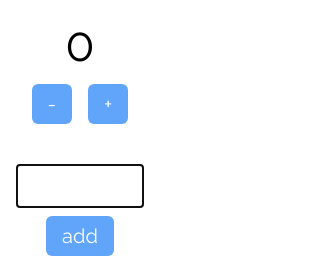
add input value
This screenshot has width=320, height=274.
In the field with test id "count-input": (80,186) [16,164,144,208], type "9"
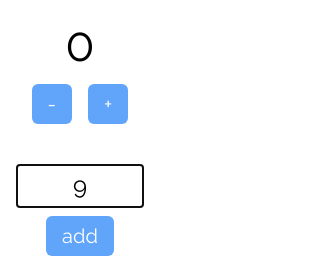
Click the button "add": (80,236) [46,216,114,256]
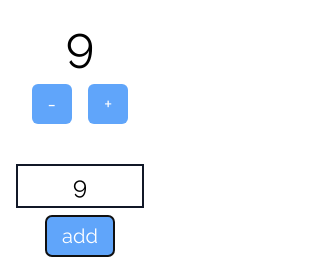
Now the text named "count" reads "9", box [66,16,94,72]
